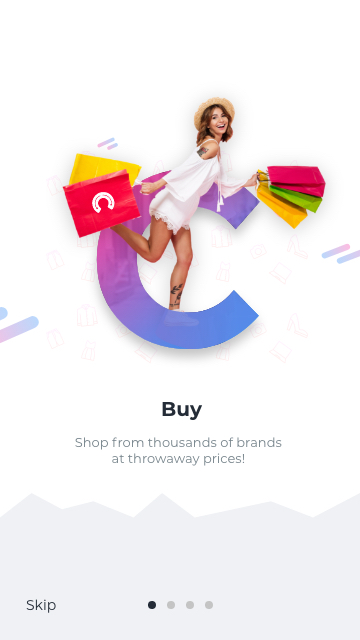Image: (1, 97, 360, 364)
PageIndicator: (148, 600, 214, 610)
Text: (75, 437, 282, 467), (162, 402, 203, 421), (27, 598, 58, 614)
